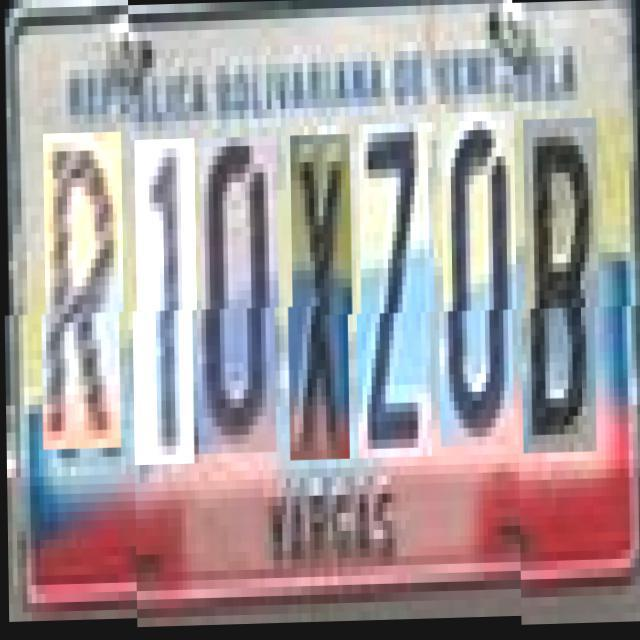0: (440, 114, 518, 450), (198, 138, 280, 455)
1: (134, 140, 198, 466)
B: (522, 112, 600, 448)
R: (43, 142, 124, 458)
X: (290, 136, 352, 462)
Z: (358, 126, 435, 460)
